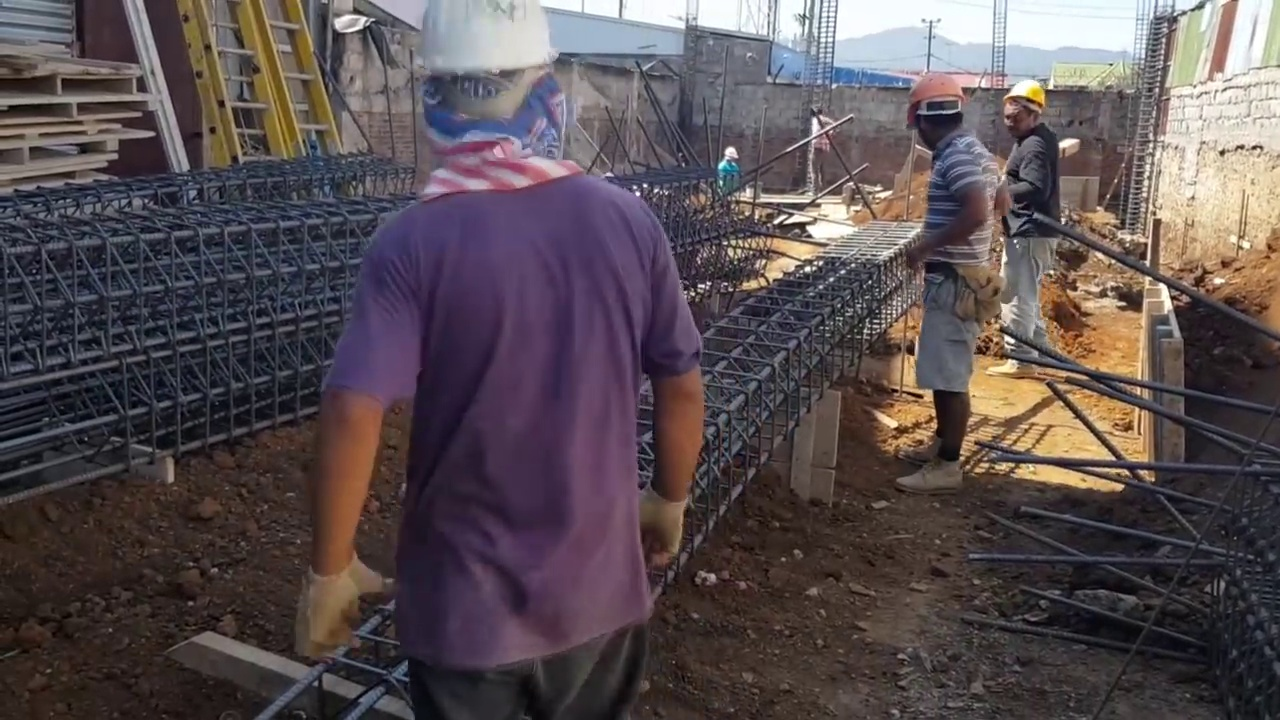helmet: (412, 3, 556, 99), (907, 69, 964, 116), (1001, 78, 1048, 114), (723, 148, 738, 159)
helmet-off: (807, 104, 822, 118)
helmet-on: (409, 3, 561, 172), (905, 72, 967, 153), (1001, 76, 1049, 143), (721, 148, 738, 164)
person: (296, 9, 711, 699), (891, 77, 1009, 476), (986, 74, 1062, 379), (790, 102, 839, 208), (712, 144, 738, 192)
